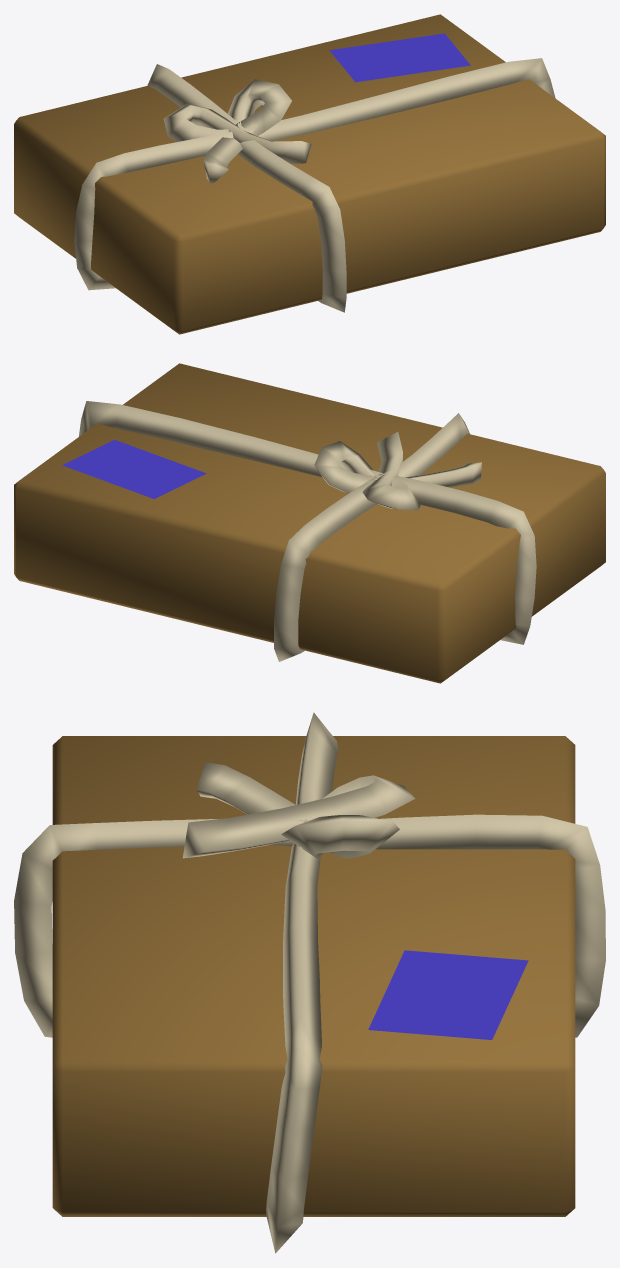
The picture shows the model from 3 angles, top to bottom: view 1: azimuth 30°, elevation 25°; view 2: azimuth 150°, elevation 25°; view 3: azimuth 270°, elevation 25°; orthographic projection. The views are drawn at different scales.
Visible parts, largest first — view 1: Box001, Line001, Stamp; view 2: Box001, Line001, Stamp; view 3: Box001, Line001, Stamp.
Boxes of the visible parts, <box> form: Box001: <box>14,14,605,334</box>; Line001: <box>74,58,555,312</box>; Stamp: <box>329,33,470,82</box>; Box001: <box>14,363,605,683</box>; Line001: <box>79,401,536,661</box>; Stamp: <box>62,439,206,498</box>; Box001: <box>52,736,575,1216</box>; Line001: <box>14,712,605,1253</box>; Stamp: <box>368,950,528,1039</box>.
Bounding box in the file's own units: 19.39 × 6.4 × 13.38.
